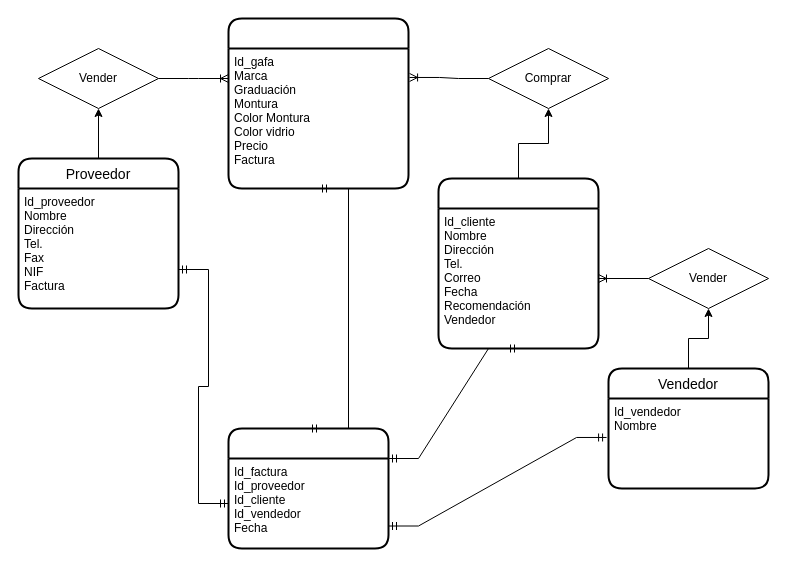
This 786x566 diagram has some shape labels left out. Here are the shapes that lost their labels. From the top down, the box of each, then its label:
(227, 17, 409, 189): Gafas
(437, 177, 599, 349): Clientes
(227, 427, 389, 549): Facturas
